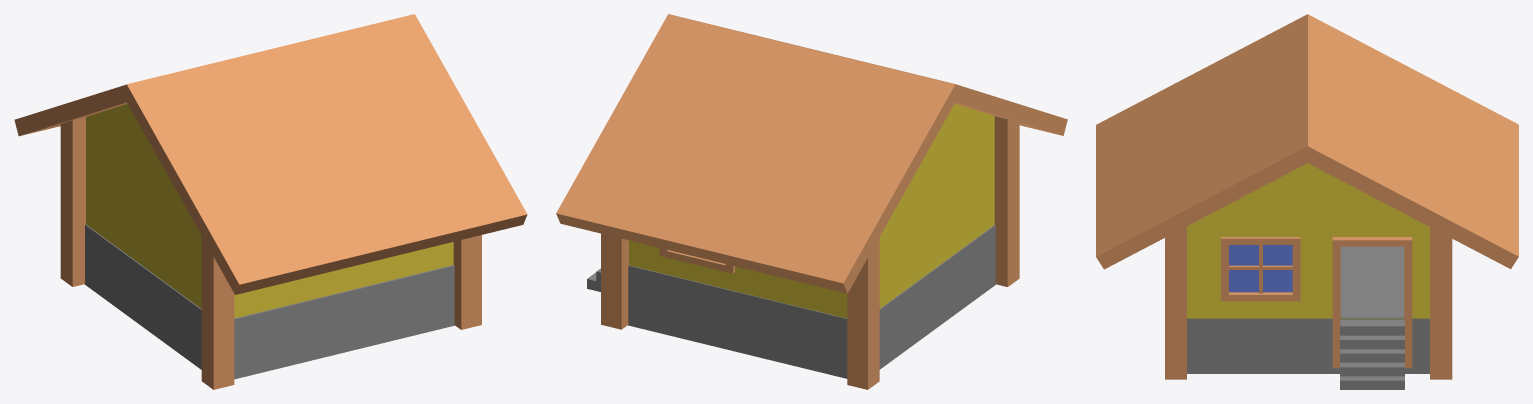
File: miniLiveHouse.fbx
3 views of the same model, side by side, from view 1: azimuth 30°, elevation 25°; view 2: azimuth 150°, elevation 25°; view 3: azimuth 270°, elevation 25° (orthographic). The views are drawn at different scales.
Visible parts, largest first — view 1: Cube.001, Fundament, Wall.001, Wall.003, Podporka.001, Podporka.003, Podporka.002, Cube; view 2: Cube, Fundament, Wall.001, Wall, Podporka.003, Podporka.001, Podporka, Cube.001; view 3: Cube.001, Cube, Wall.002, Fundament, stairs, Podporka, Podporka.002, slass1.
Part boxes in pixels (x1=…): Cube.001: x1=126, y1=14, x2=527, y2=294; Fundament: x1=84, y1=224, x2=454, y2=379; Wall.001: x1=86, y1=104, x2=201, y2=308; Wall.003: x1=234, y1=242, x2=453, y2=318; Podporka.001: x1=60, y1=117, x2=85, y2=286; Podporka.003: x1=201, y1=236, x2=234, y2=389; Podporka.002: x1=453, y1=235, x2=481, y2=329; Cube: x1=14, y1=84, x2=130, y2=136; Cube: x1=556, y1=14, x2=959, y2=293; Fundament: x1=628, y1=225, x2=995, y2=378; Wall.001: x1=879, y1=103, x2=994, y2=308; Wall: x1=629, y1=240, x2=847, y2=318; Podporka.003: x1=994, y1=116, x2=1019, y2=286; Podporka.001: x1=847, y1=237, x2=879, y2=389; Podporka: x1=601, y1=233, x2=628, y2=329; Cube.001: x1=668, y1=14, x2=1067, y2=135; Cube.001: x1=1096, y1=14, x2=1314, y2=269; Cube: x1=1300, y1=14, x2=1518, y2=269; Wall.002: x1=1187, y1=163, x2=1429, y2=368; Fundament: x1=1187, y1=246, x2=1429, y2=373; stairs: x1=1340, y1=319, x2=1404, y2=389; Podporka: x1=1430, y1=227, x2=1452, y2=379; Podporka.002: x1=1165, y1=226, x2=1186, y2=379; slass1: x1=1229, y1=245, x2=1292, y2=292.
Bounding box in the file's own units: 4937 × 3766 × 6053.
